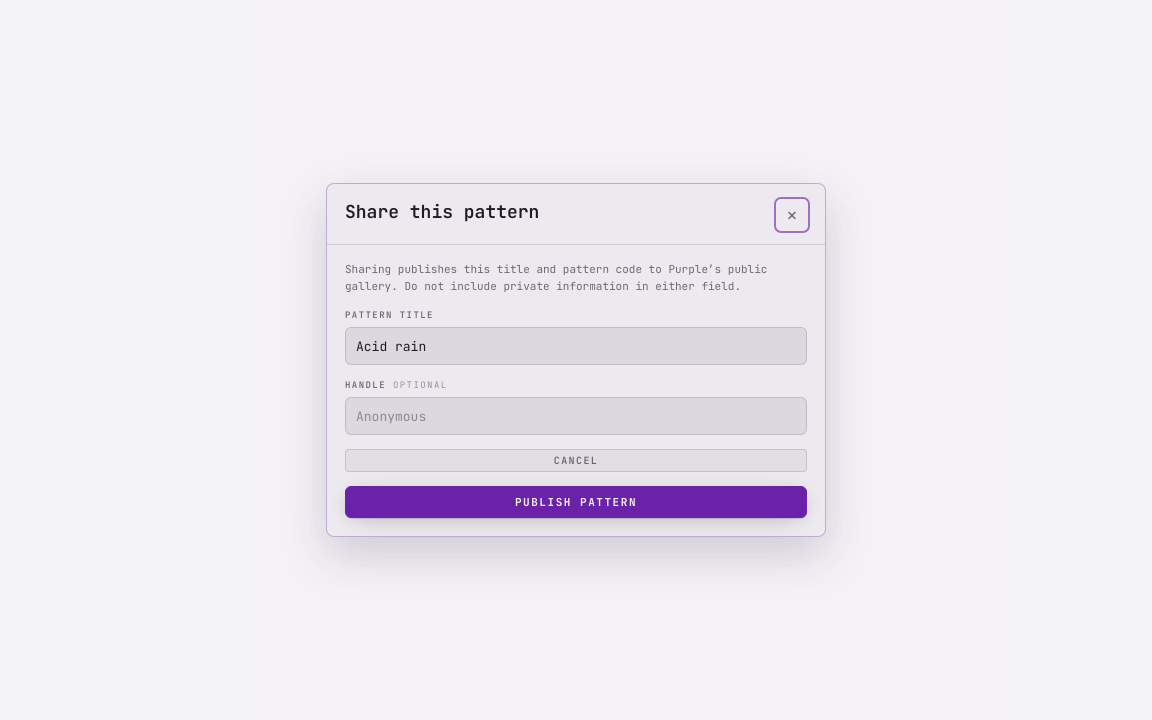
Test: share dialog › shows the service error instead of a generic retry
Click the button "PUBLISH PATTERN": click(576, 502) [345,486,807,518]
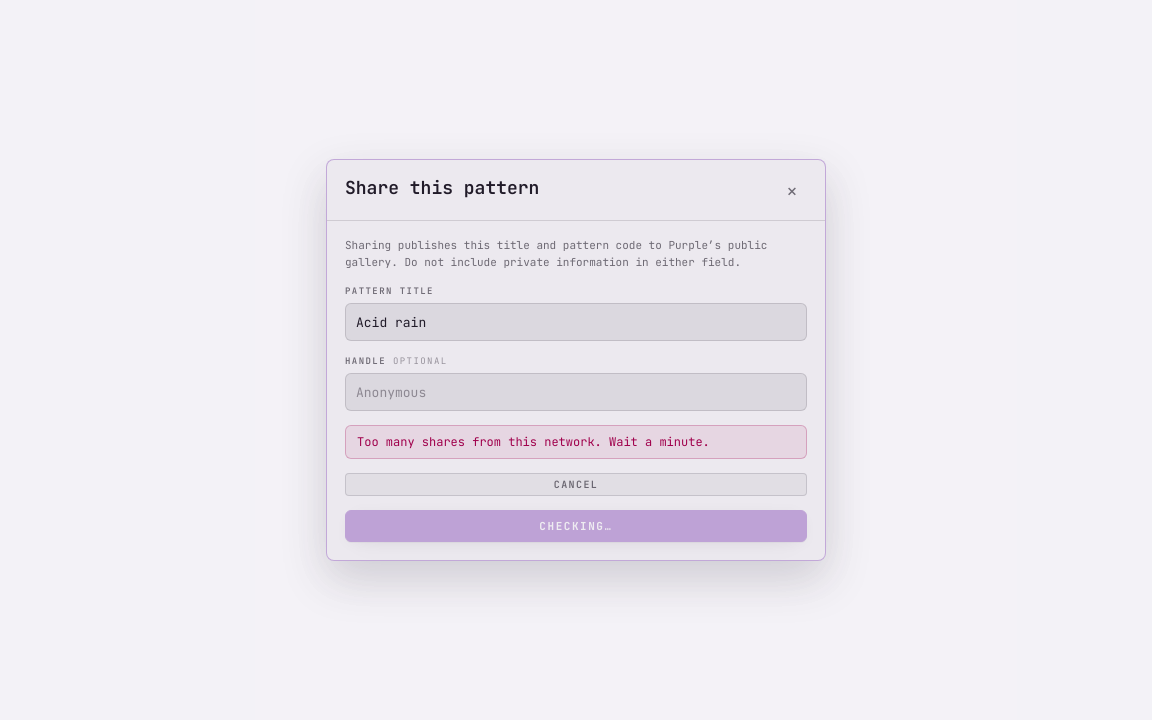
Check: the message reads "Too many shares from this network. Wait a minute.", box [357,434,710,450]
